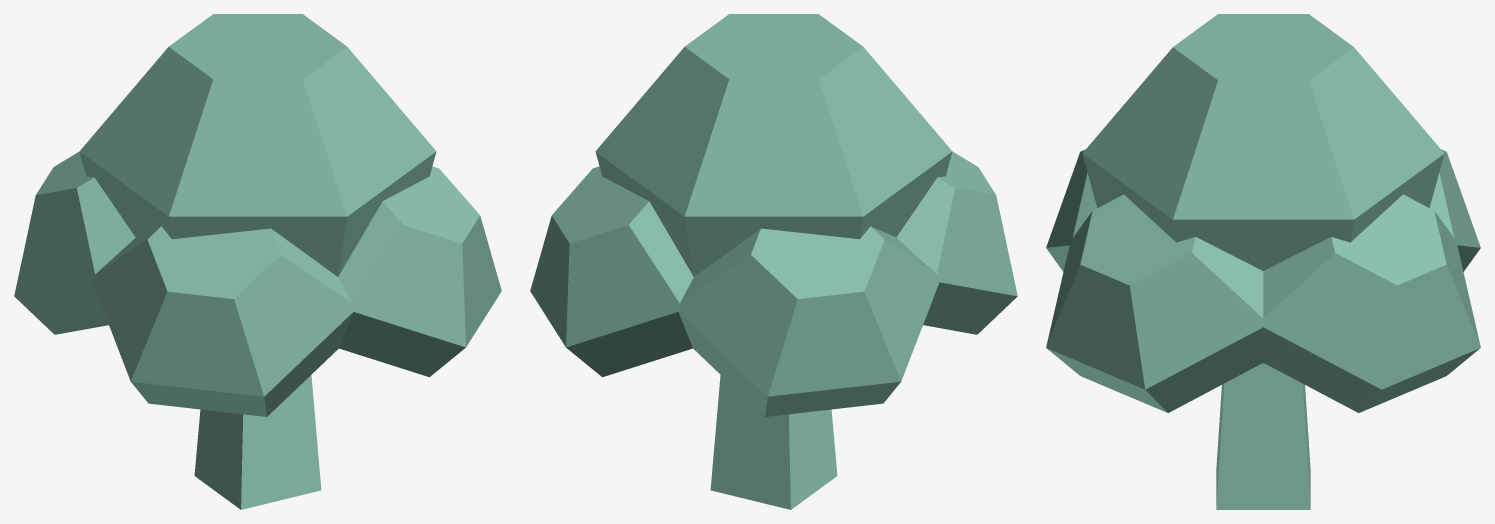
The model's file is broccoli.glb.
3 views of the same model, side by side, from view 1: azimuth 30°, elevation 25°; view 2: azimuth 150°, elevation 25°; view 3: azimuth 270°, elevation 25° (orthographic).
Visible parts, largest first — view 1: broccoli; view 2: broccoli; view 3: broccoli.
Part boxes in pixels (x1,y1,x2,y2): broccoli: (14, 14, 501, 509); broccoli: (530, 14, 1017, 509); broccoli: (1046, 14, 1480, 509).
Size of the model in its own units: 0.3752 by 0.4216 by 0.3752.
